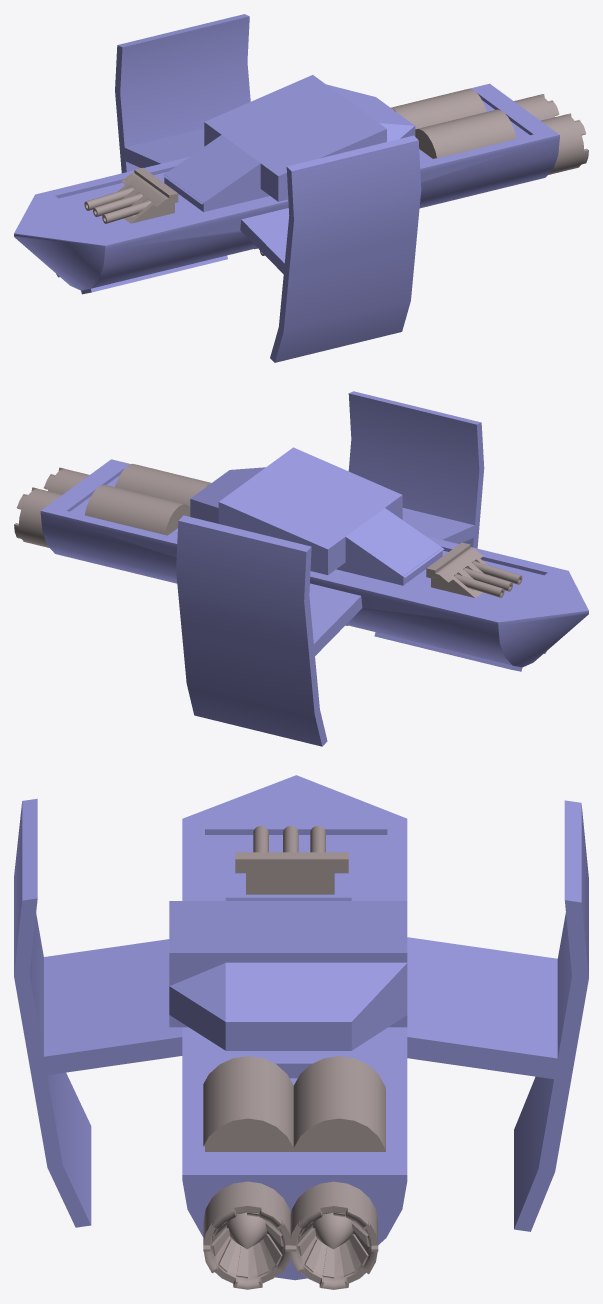
File: Si-rudokann.fbx
The picture shows the model from 3 angles, top to bottom: view 1: azimuth 30°, elevation 25°; view 2: azimuth 150°, elevation 25°; view 3: azimuth 270°, elevation 25°; orthographic projection. The views are drawn at different scales.
Visible parts, largest first — view 1: SiledHontai, pCube110, polySurface1907, pCylinder68, pCylinder69, enziin1, enziin; view 2: SiledHontai, pCube110, pCylinder69, polySurface1907, pCylinder68, enziin, enziin1; view 3: SiledHontai, pCube110, pCylinder69, pCylinder68, enziin1, enziin, polySurface1907.
Boxes of the visible parts, bbox=[...] form: SiledHontai: bbox=[14, 14, 559, 362]; pCube110: bbox=[163, 75, 415, 211]; polySurface1907: bbox=[84, 167, 264, 255]; pCylinder68: bbox=[415, 109, 516, 158]; pCylinder69: bbox=[391, 88, 486, 129]; enziin1: bbox=[541, 113, 588, 174]; enziin: bbox=[514, 94, 559, 120]; SiledHontai: bbox=[40, 391, 588, 746]; pCube110: bbox=[190, 447, 443, 585]; pCylinder69: bbox=[85, 484, 190, 535]; polySurface1907: bbox=[339, 542, 522, 631]; pCylinder68: bbox=[115, 463, 211, 506]; enziin: bbox=[14, 487, 62, 547]; enziin1: bbox=[43, 467, 89, 494]; SiledHontai: bbox=[14, 775, 588, 1280]; pCube110: bbox=[169, 897, 407, 1078]; pCylinder69: bbox=[293, 1056, 385, 1151]; pCylinder68: bbox=[203, 1056, 294, 1151]; enziin1: bbox=[203, 1181, 291, 1289]; enziin: bbox=[290, 1181, 378, 1289]; polySurface1907: bbox=[235, 825, 348, 894].
Bounding box in the file's own units: 73.69 × 26.76 × 41.82.
